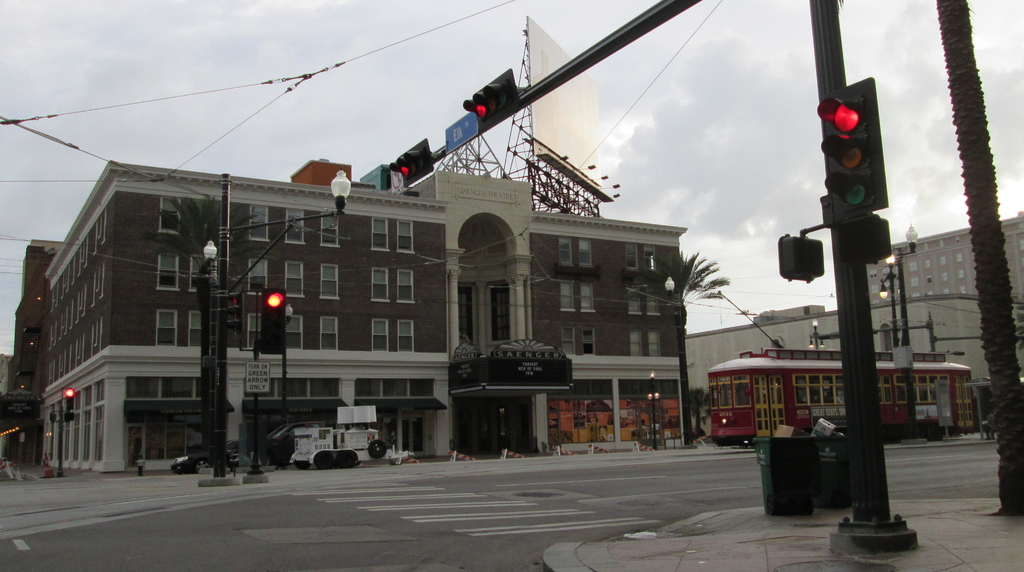red_light: (824, 92, 876, 212), (261, 291, 284, 353), (64, 388, 75, 422)
